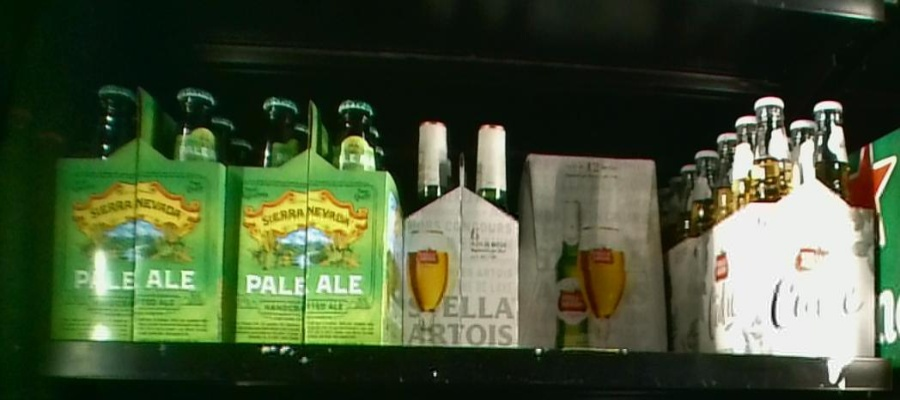bottle: (227, 86, 404, 345), (57, 80, 223, 339), (733, 86, 875, 356), (521, 151, 670, 348), (405, 112, 518, 347)
